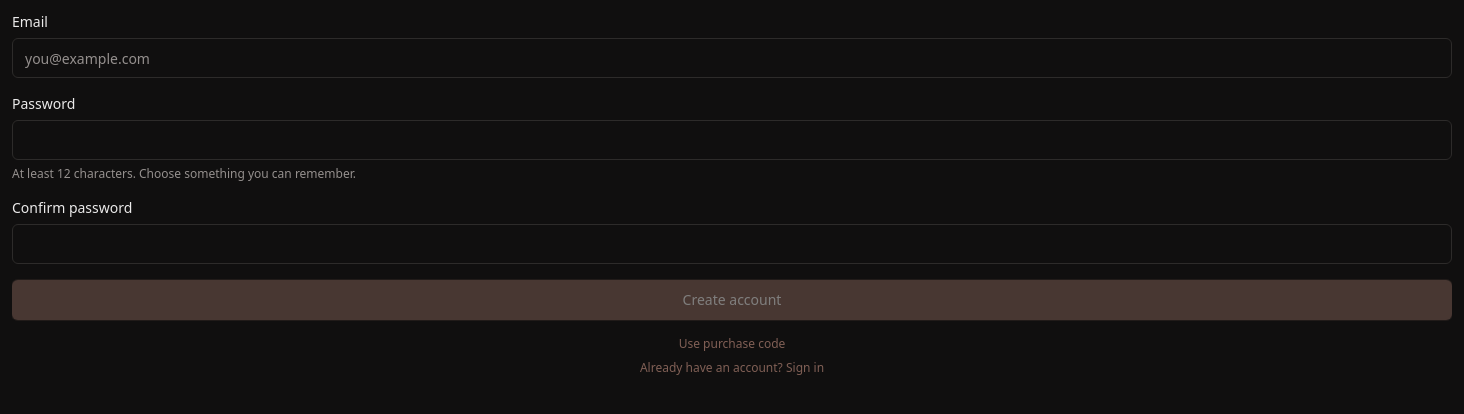
SignUpForm — claim mode toggle › returns to default form when "Use a regular sign-up instead" is clicked
The width and height of the screenshot is (1464, 414).
Type "correct-horse-battery-staple" into the password field labelled "Password". click: (732, 140)
box: left=12, top=120, right=1452, bottom=160
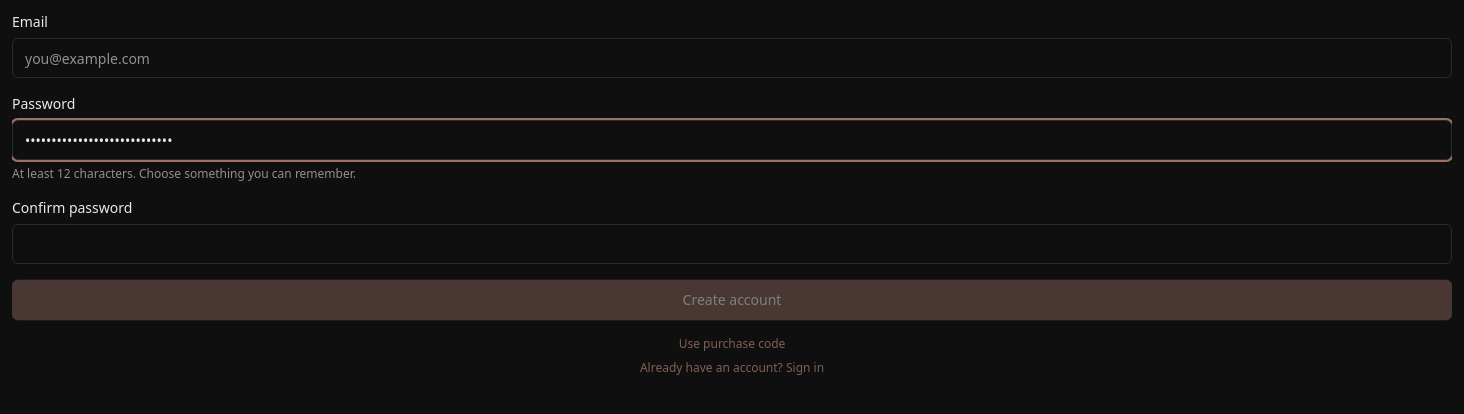
Click the button "Use purchase code". click: (732, 344)
box: left=679, top=336, right=785, bottom=352
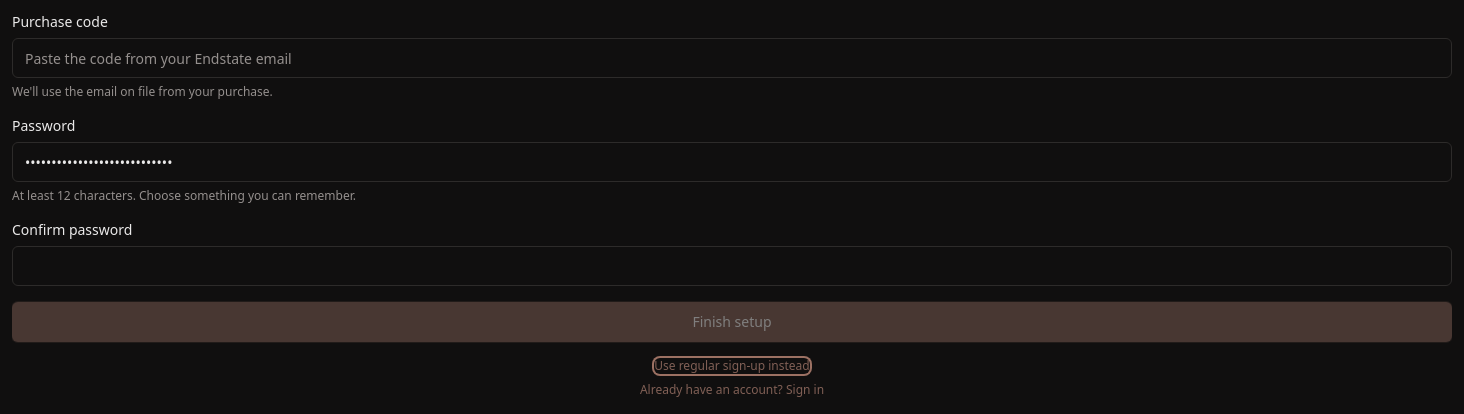
Click the button "Use regular sign-up instead". click: (732, 366)
box: left=654, top=358, right=810, bottom=374
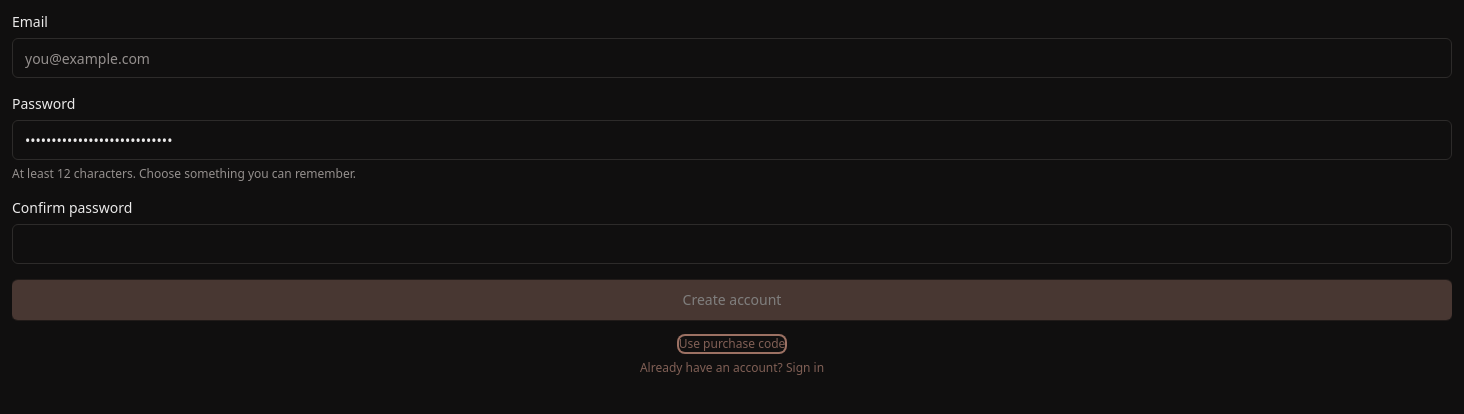
expect the field labelled "Email" is shown: met, box left=12, top=38, right=1452, bottom=78
expect the button "Create account" is shown: met, box left=12, top=280, right=1452, bottom=320
